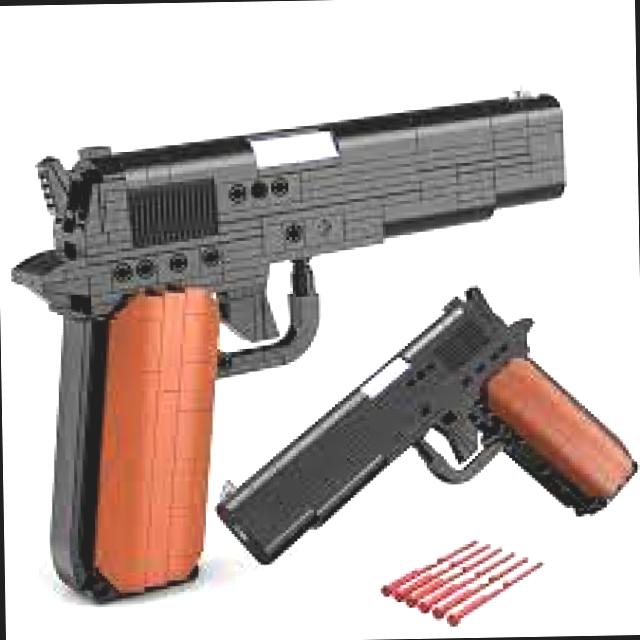semi automatic: (3, 60, 640, 639)
